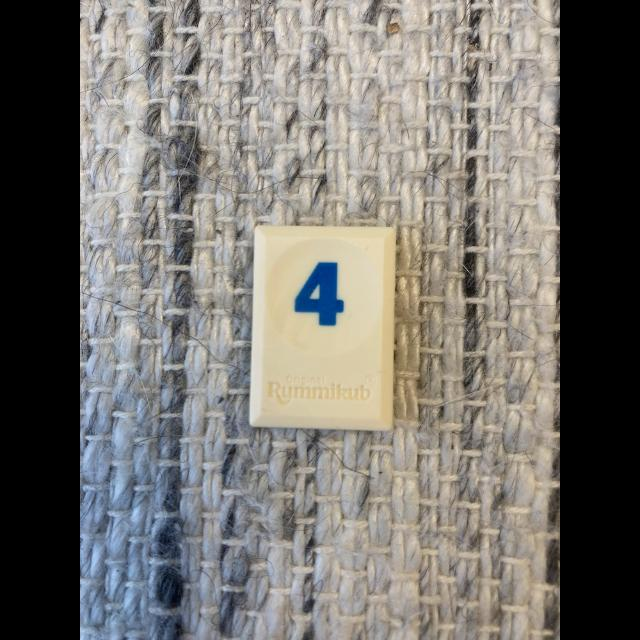blue_4: (250, 226, 395, 430)
